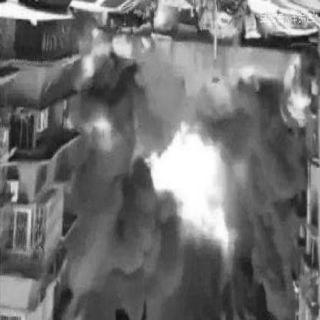Fire: (56, 10, 126, 162), (132, 8, 240, 66), (277, 57, 313, 140)
Smoke: (80, 58, 294, 316)
